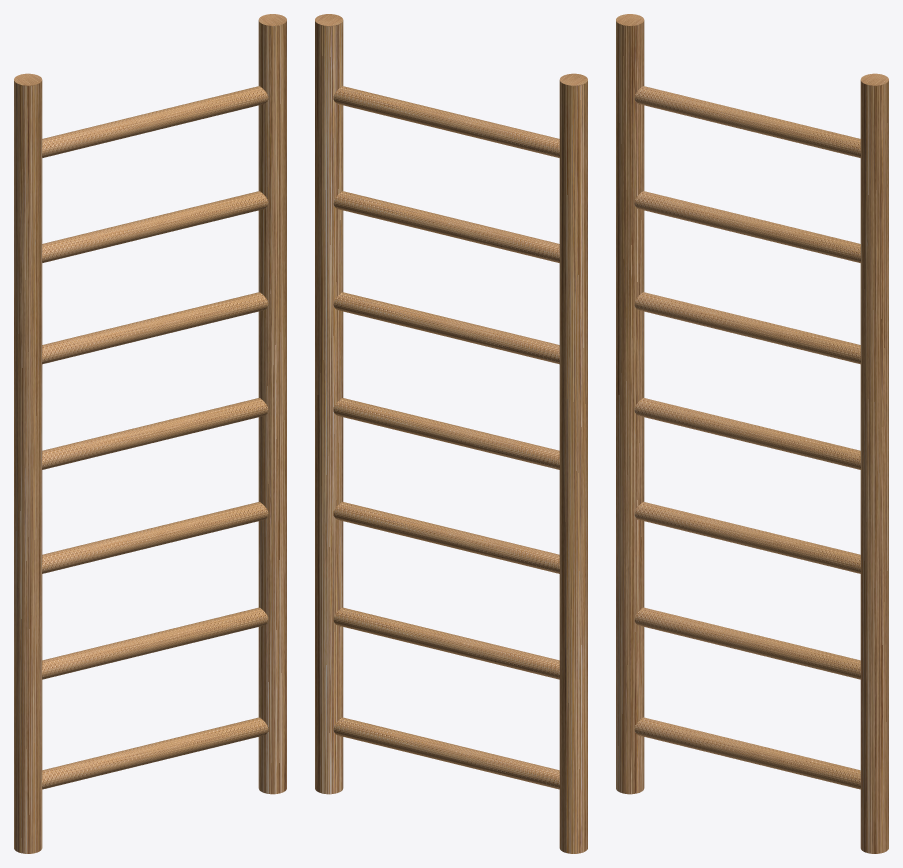
The model's file is echelle.fbx.
The picture shows the model from 3 angles, left to right: view 1: azimuth 30°, elevation 25°; view 2: azimuth 150°, elevation 25°; view 3: azimuth 330°, elevation 25°; orthographic projection.
Parts seen in each view (by area): view 1: Cylinder.001, Cylinder, Cylinder.003, Cylinder.009, Cylinder.005, Cylinder.006, Cylinder.007, Cylinder.002, Cylinder.004; view 2: Cylinder.001, Cylinder, Cylinder.003, Cylinder.009, Cylinder.005, Cylinder.006, Cylinder.007, Cylinder.002, Cylinder.004; view 3: Cylinder, Cylinder.001, Cylinder.003, Cylinder.009, Cylinder.005, Cylinder.006, Cylinder.007, Cylinder.002, Cylinder.004.
Boxes of the visible parts, x1,y1,x2,y2 form: Cylinder.001: (14,73,42,853); Cylinder: (258,14,286,794); Cylinder.003: (42,292,268,364); Cylinder.009: (42,717,268,789); Cylinder.005: (42,607,268,679); Cylinder.006: (42,191,268,262); Cylinder.007: (42,86,268,157); Cylinder.002: (42,398,268,469); Cylinder.004: (42,502,268,573); Cylinder.001: (559,73,587,853); Cylinder: (315,14,343,794); Cylinder.003: (333,292,559,364); Cylinder.009: (333,717,559,789); Cylinder.005: (333,607,559,679); Cylinder.006: (333,191,559,262); Cylinder.007: (333,86,559,157); Cylinder.002: (333,398,559,469); Cylinder.004: (333,502,559,573); Cylinder: (860,73,888,853); Cylinder.001: (616,14,644,794); Cylinder.003: (634,292,860,364); Cylinder.009: (634,717,860,789); Cylinder.005: (634,607,860,679); Cylinder.006: (634,191,860,262); Cylinder.007: (634,86,860,157); Cylinder.002: (634,398,860,469); Cylinder.004: (634,502,860,573).
Bounding box in the file's own units: 33 × 90 × 3.
